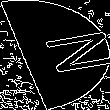N_W: (8, 29, 102, 81)
